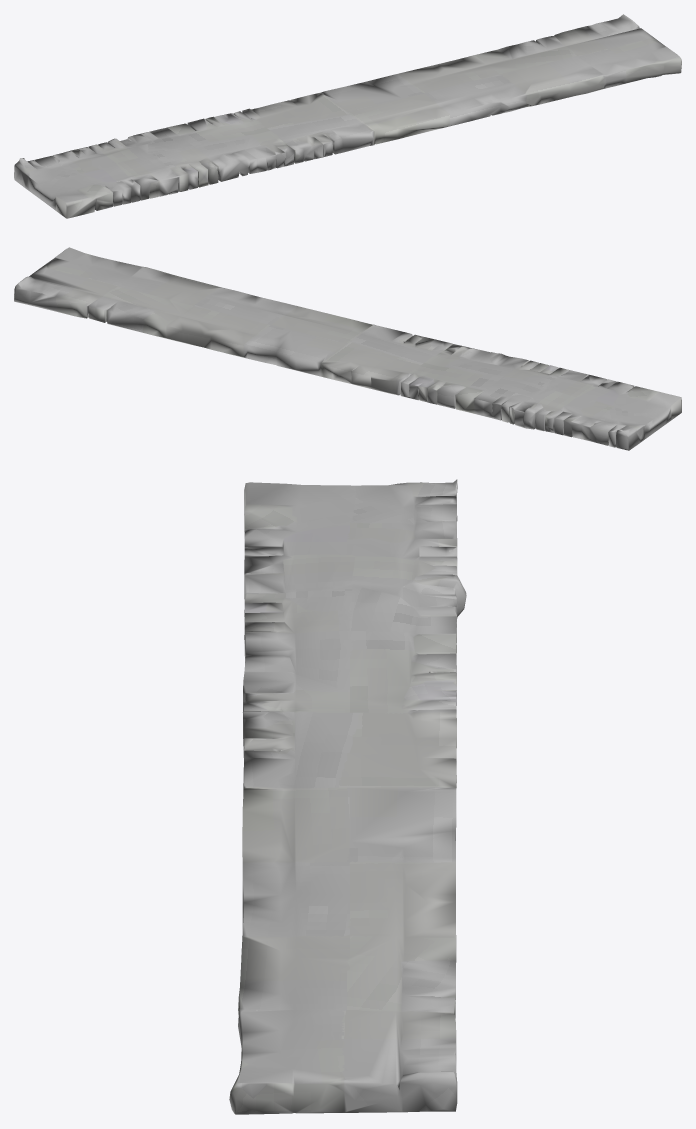
Rendered from m_ruler.glb.
3 renders of one model, top to bottom at view 1: azimuth 30°, elevation 25°; view 2: azimuth 150°, elevation 25°; view 3: azimuth 270°, elevation 25°, orthographic. The views are drawn at different scales.
Visible parts, largest first — view 1: tripo_node_440c6d6c-6dad-4f8c-b97f-edd6f7dea8f3; view 2: tripo_node_440c6d6c-6dad-4f8c-b97f-edd6f7dea8f3; view 3: tripo_node_440c6d6c-6dad-4f8c-b97f-edd6f7dea8f3.
Boxes of the visible parts, x1,y1,x2,y2 form: tripo_node_440c6d6c-6dad-4f8c-b97f-edd6f7dea8f3: (14,14,681,218); tripo_node_440c6d6c-6dad-4f8c-b97f-edd6f7dea8f3: (14,247,681,450); tripo_node_440c6d6c-6dad-4f8c-b97f-edd6f7dea8f3: (229,479,466,1114).
Bounding box in the file's own units: 0.9972 × 0.0353 × 0.167.
1 material, 1 textured.
